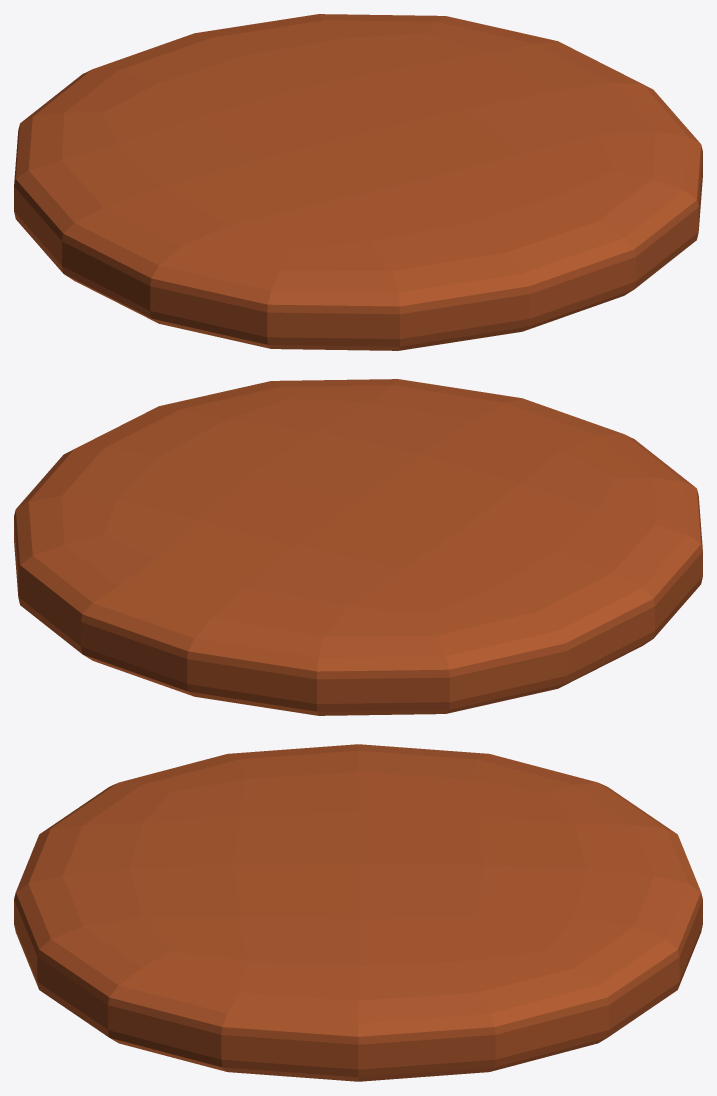
File: Hamburger-Meat.fbx
The picture shows the model from 3 angles, top to bottom: view 1: azimuth 30°, elevation 25°; view 2: azimuth 150°, elevation 25°; view 3: azimuth 270°, elevation 25°; orthographic projection.
Parts seen in each view (by area): view 1: Meat; view 2: Meat; view 3: Meat.
Boxes of the visible parts, x1,y1,x2,y2 form: Meat: (14, 14, 702, 350); Meat: (14, 379, 702, 715); Meat: (14, 744, 702, 1081).
Size of the model in its own units: 190 by 31.11 by 190.
